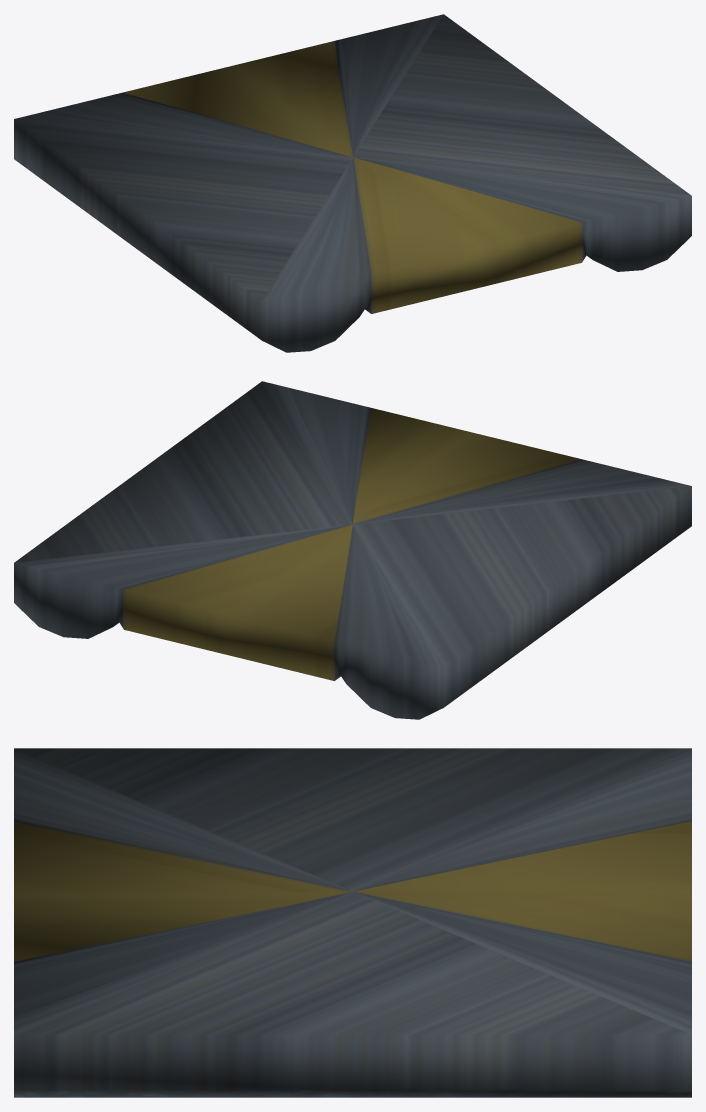
The model's file is S_Ceiling01.fbx.
The picture shows the model from 3 angles, top to bottom: view 1: azimuth 30°, elevation 25°; view 2: azimuth 150°, elevation 25°; view 3: azimuth 270°, elevation 25°; orthographic projection. The views are drawn at different scales.
Parts seen in each view (by area): view 1: S_Ceiling01; view 2: S_Ceiling01; view 3: S_Ceiling01.
Boxes of the visible parts, x1=… form: S_Ceiling01: x1=14, y1=14, x2=691, y2=352; S_Ceiling01: x1=14, y1=381, x2=691, y2=719; S_Ceiling01: x1=14, y1=748, x2=691, y2=1097.
Size of the model in its own units: 200 by 27.75 by 200.
Materials: 1 (1 with a texture image).
